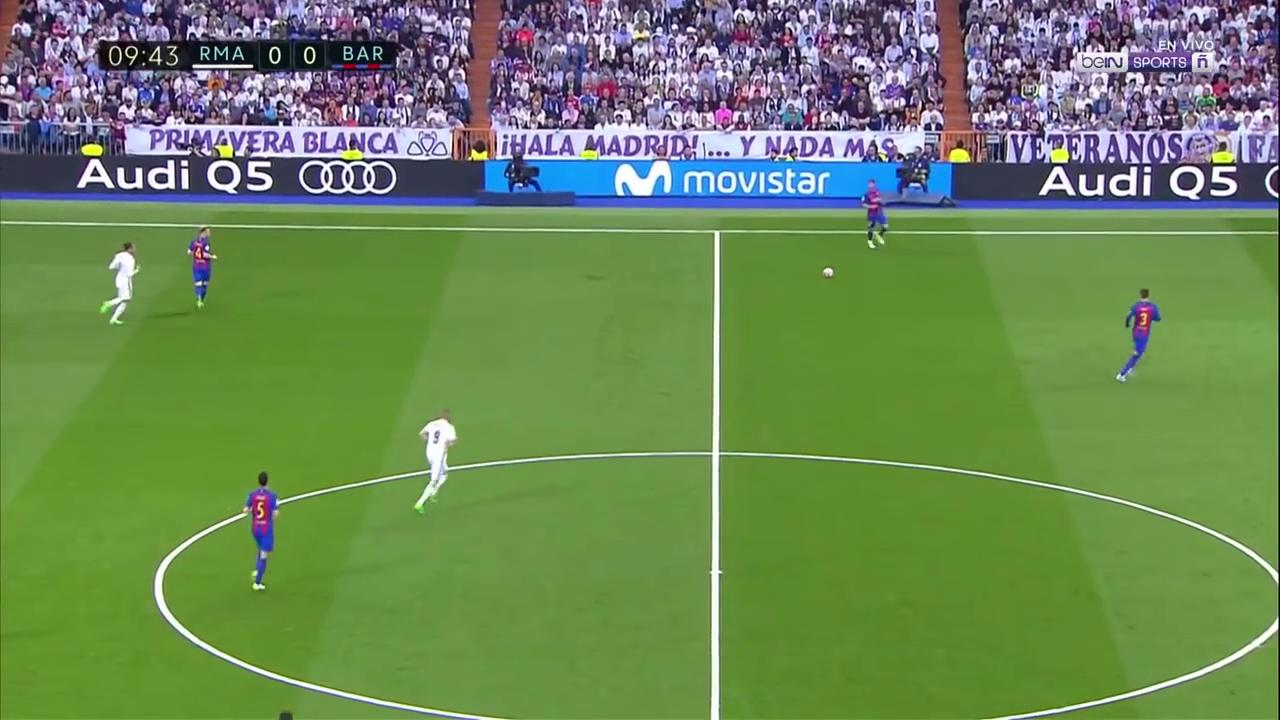ball: (819, 265, 836, 280)
player: (1115, 284, 1167, 391), (240, 462, 280, 598), (410, 400, 456, 518), (94, 237, 144, 330), (186, 226, 219, 312), (859, 180, 890, 251)
